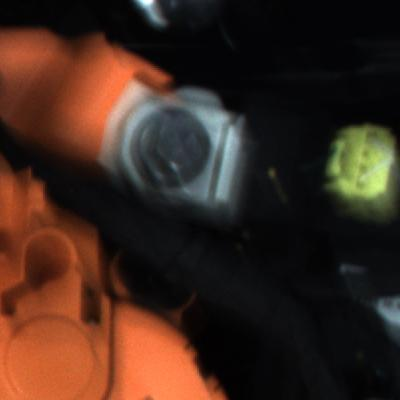nut_b: (124, 104, 216, 192)
